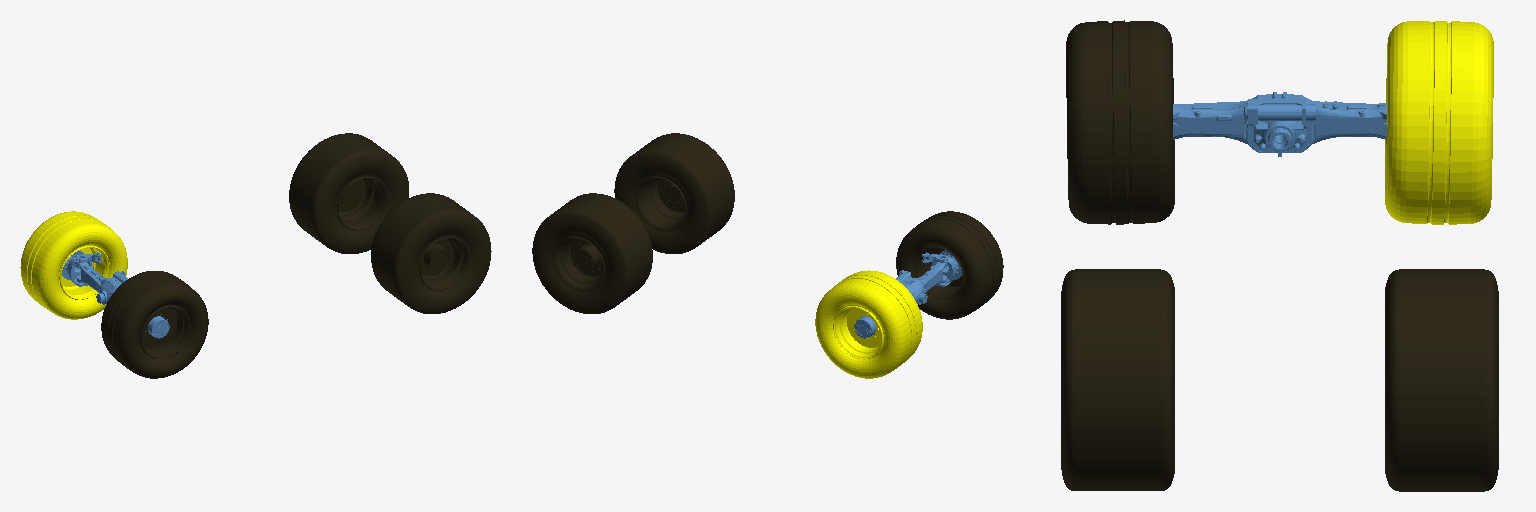
robot.urdf — m220a_sim_d:
<?xml version="1.0" encoding="utf-8"?>
<!-- This URDF was automatically created by SolidWorks to URDF Exporter! Originally created by [author] ([email redacted]) 
     Commit Version: 1.5.1-0-g916b5db  Build Version: 1.5.7152.31018
     For more information, please see http://wiki.ros.org/sw_urdf_exporter -->
<robot
  name="m220a_sim_d">
  <link
    name="base_link">
    <inertial>
            <origin
        xyz="0.664248340762401 -9.71108443197371E-05 0.58883710544899"
        rpy="0 0 0" />
              <mass
        value="591.811388669448" />
              <inertia
        ixx="17.4115549145189"
        ixy="-0.0858456092196217"
        ixz="1.88877993504133"
        iyy="104.916171577223"
        iyz="0.0131810528442383"
        izz="109.491249979225" />
    </inertial>
    <visual>
      <origin
        xyz="0 0 0"
        rpy="0 0 0" />
      <geometry>
        <mesh
          filename="package://m220a_sim_d/meshes/base_link.STL" />
      </geometry>
      <material
        name="">
        <color
          rgba="0.0901960784313725 0.380392156862745 0.670588235294118 1" />
      </material>
    </visual>
    <collision>
      <origin
        xyz="0 0 0"
        rpy="0 0 0" />
      <geometry>
        <mesh
          filename="package://m220a_sim_d/meshes/base_link.STL" />
      </geometry>
    </collision>
  </link>
  <link
    name="Raxle_link">
    <inertial>
      <origin
        xyz="0.115027834396295 -0.00368791120621493 0.0275444861694117"
        rpy="0 0 0" />
      <mass
        value="6.96093670977785" />
      <inertia
        ixx="0.0795168605718286"
        ixy="-4.79170506361277E-06"
        ixz="-0.000497046464018259"
        iyy="0.0463614312865301"
        iyz="0.000250763639659736"
        izz="0.0629479932814762" />
    </inertial>
    <visual>
      <origin
        xyz="0 0 0"
        rpy="0 0 0" />
      <geometry>
        <mesh
          filename="package://m220a_sim_d/meshes/Raxle_link.STL" />
      </geometry>
      <material
        name="">
        <color
          rgba="0.4 0.6 0.8 1" />
      </material>
    </visual>
    <collision>
      <origin
        xyz="0 0 0"
        rpy="0 0 0" />
      <geometry>
        <mesh
          filename="package://m220a_sim_d/meshes/Raxle_link.STL" />
      </geometry>
    </collision>
  </link>
  <joint
    name="Raxle_rev"
    type="revolute">
    <origin
      xyz="-1.5342700116 0 0.54132480000003"
      rpy="0 0 0" />
    <parent
      link="base_link" />
    <child
      link="Raxle_link" />
    <axis
      xyz="1 0 0" />
    <limit
      lower="0.17"
      upper="-0.17"
      effort="0"
      velocity="0" />
  </joint>
  <link
    name="RRwheelhub_Link">
    <inertial>
      <origin
        xyz="0.0101197292226871 -0.115282963032153 0.00613134555331774"
        rpy="0 0 0" />
      <mass
        value="7.39057069090286" />
      <inertia
        ixx="0.0654815354112381"
        ixy="-0.00479710525420318"
        ixz="-0.00667782117628212"
        iyy="0.0864591374173895"
        iyz="-0.00220576942946768"
        izz="0.0601126248946336" />
    </inertial>
    <visual>
      <origin
        xyz="0 0 0"
        rpy="0 0 0" />
      <geometry>
        <mesh
          filename="package://m220a_sim_d/meshes/RRwheelhub_Link.STL" />
      </geometry>
      <material
        name="">
        <color
          rgba="0.4 0.6 0.8 1" />
      </material>
    </visual>
    <collision>
      <origin
        xyz="0 0 0"
        rpy="0 0 0" />
      <geometry>
        <mesh
          filename="package://m220a_sim_d/meshes/RRwheelhub_Link.STL" />
      </geometry>
    </collision>
  </link>
  <joint
    name="RRwheelhub_rev"
    type="revolute">
    <origin
      xyz="0 -0.685 0"
      rpy="0 0 0" />
    <parent
      link="Raxle_link" />
    <child
      link="RRwheelhub_Link" />
    <axis
      xyz="0 0 -1" />
    <limit
      lower="0.3"
      upper="-0.3"
      effort="0"
      velocity="0" />
  </joint>
  <link
    name="RRwheel_Link">
    <inertial>
      <origin
        xyz="0 0.0332360777534125 -2.77555756156289E-17"
        rpy="0 0 0" />
      <mass
        value="112.328785456304" />
      <inertia
        ixx="10.7002611274863"
        ixy="-3.80661704354953E-14"
        ixz="-1.6994036063168E-15"
        iyy="16.329414676448"
        iyz="-3.78863607153336E-15"
        izz="10.7002611274863" />
    </inertial>
    <visual>
      <origin
        xyz="0 0 0"
        rpy="0 0 0" />
      <geometry>
        <mesh
          filename="package://m220a_sim_d/meshes/RRwheel_Link.STL" />
      </geometry>
      <material
        name="">
        <color
          rgba="0.196078431372549 0.176470588235294 0.117647058823529 1" />
      </material>
    </visual>
    <collision>
      <origin
        xyz="0 0 0"
        rpy="0 0 0" />
      <geometry>
        <mesh
          filename="package://m220a_sim_d/meshes/RRwheel_Link.STL" />
      </geometry>
    </collision>
  </link>
  <joint
    name="RRwheel_cont"
    type="continuous">
    <origin
      xyz="0 -0.192698065728486 -0.00219855720814253"
      rpy="0.0174532925199481 0 0" />
    <parent
      link="RRwheelhub_Link" />
    <child
      link="RRwheel_Link" />
    <axis
      xyz="0 1 0" />
  </joint>
  <link
    name="LRwheelhub_Link">
    <inertial>
      <origin
        xyz="0.0101831933496832 0.115168626863759 0.00613747696767633"
        rpy="0 0 0" />
      <mass
        value="7.38522680074551" />
      <inertia
        ixx="0.0654835272657857"
        ixy="0.00475907140727347"
        ixz="-0.00677209460070224"
        iyy="0.086461021829941"
        iyz="0.00220465547996178"
        izz="0.0601131347962688" />
    </inertial>
    <visual>
      <origin
        xyz="0 0 0"
        rpy="0 0 0" />
      <geometry>
        <mesh
          filename="package://m220a_sim_d/meshes/LRwheelhub_Link.STL" />
      </geometry>
      <material
        name="">
        <color
          rgba="0.4 0.6 0.8 1" />
      </material>
    </visual>
    <collision>
      <origin
        xyz="0 0 0"
        rpy="0 0 0" />
      <geometry>
        <mesh
          filename="package://m220a_sim_d/meshes/LRwheelhub_Link.STL" />
      </geometry>
    </collision>
  </link>
  <joint
    name="LRwheelhub_rev"
    type="revolute">
    <origin
      xyz="0 0.685 0"
      rpy="0 0 0" />
    <parent
      link="Raxle_link" />
    <child
      link="LRwheelhub_Link" />
    <axis
      xyz="0 0 -1" />
    <limit
      lower="0.3"
      upper="-0.3"
      effort="0"
      velocity="0" />
  </joint>
  <link
    name="LRwheel_Link">
    <inertial>
      <origin
        xyz="-2.22044604925031E-16 -0.0205360777533298 -1.38777878078145E-17"
        rpy="0 0 0" />
      <mass
        value="112.328785456304" />
      <inertia
        ixx="10.700261127489"
        ixy="2.84544554290303E-14"
        ixz="2.81008058985987E-15"
        iyy="16.3294146764527"
        iyz="5.68989300120379E-16"
        izz="10.700261127489" />
    </inertial>
    <visual>
      <origin
        xyz="0 0 0"
        rpy="0 0 0" />
      <geometry>
        <mesh
          filename="package://m220a_sim_d/meshes/LRwheel_Link.STL" />
      </geometry>
      <material
        name="">
        <color
          rgba="1 1 0.0392156862745098 1" />
      </material>
    </visual>
    <collision>
      <origin
        xyz="0 0 0"
        rpy="0 0 0" />
      <geometry>
        <mesh
          filename="package://m220a_sim_d/meshes/LRwheel_Link.STL" />
      </geometry>
    </collision>
  </link>
  <joint
    name="LRwheel_cont"
    type="continuous">
    <origin
      xyz="0 0.18 -0.00197691164638221"
      rpy="-0.0174532925199407 0 0" />
    <parent
      link="LRwheelhub_Link" />
    <child
      link="LRwheel_Link" />
    <axis
      xyz="0 -1 0" />
  </joint>
  <link
    name="RFwheel_Link">
    <inertial>
      <origin
        xyz="-2.85929953931507E-05 0.876346708589147 -1.30473127682995E-05"
        rpy="0 0 0" />
      <mass
        value="286.910658695307" />
      <inertia
        ixx="27.9109076636024"
        ixy="-0.000705581579910743"
        ixz="0.000347589706302624"
        iyy="42.9626092450738"
        iyz="-0.000206989823208419"
        izz="27.9112259000473" />
    </inertial>
    <visual>
      <origin
        xyz="0 0 0"
        rpy="0 0 0" />
      <geometry>
        <mesh
          filename="package://m220a_sim_d/meshes/RFwheel_Link.STL" />
      </geometry>
      <material
        name="">
        <color
          rgba="0.196078431372549 0.176470588235294 0.117647058823529 1" />
      </material>
    </visual>
    <collision>
      <origin
        xyz="0 0 0"
        rpy="0 0 0" />
      <geometry>
        <mesh
          filename="package://m220a_sim_d/meshes/RFwheel_Link.STL" />
      </geometry>
    </collision>
  </link>
  <joint
    name="RFwheel_cont"
    type="continuous">
    <origin
      xyz="1.778 0 0.584999999999999"
      rpy="0 0 3.14159265358979" />
    <parent
      link="base_link" />
    <child
      link="RFwheel_Link" />
    <axis
      xyz="0 1 0" />
  </joint>
  <link
    name="LFwheel_Link">
    <inertial>
      <origin
        xyz="2.85929955343711E-05 -0.876346708589249 -1.30473126640218E-05"
        rpy="0 0 0" />
      <mass
        value="286.910658694691" />
      <inertia
        ixx="27.9109076635952"
        ixy="-0.000705581583915759"
        ixz="-0.000347589704174152"
        iyy="42.9626092450694"
        iyz="0.00020698982023692"
        izz="27.9112259000389" />
    </inertial>
    <visual>
      <origin
        xyz="0 0 0"
        rpy="0 0 0" />
      <geometry>
        <mesh
          filename="package://m220a_sim_d/meshes/LFwheel_Link.STL" />
      </geometry>
      <material
        name="">
        <color
          rgba="0.196078431372549 0.176470588235294 0.117647058823529 1" />
      </material>
    </visual>
    <collision>
      <origin
        xyz="0 0 0"
        rpy="0 0 0" />
      <geometry>
        <mesh
          filename="package://m220a_sim_d/meshes/LFwheel_Link.STL" />
      </geometry>
    </collision>
  </link>
  <joint
    name="LFwheel_cont"
    type="continuous">
    <origin
      xyz="1.778 0 0.584999999999999"
      rpy="0 0 3.14159265358979" />
    <parent
      link="base_link" />
    <child
      link="LFwheel_Link" />
    <axis
      xyz="0 -1 0" />
  </joint>

    <link name="dummy_link" >      
    <origin
        xyz="0 0 0"
        rpy="0 0 0" /> 
    </link>

  <joint name="chassis_to_chassis_dummy" type="fixed">
     <parent link="dummy_link"/>
     <child link="base_link"/>
  </joint>



    <gazebo>
    <plugin name="gazebo_ros_control" filename="libgazebo_ros_control.so">
      <robotNamespace>/</robotNamespace>
      <robotSimType>gazebo_ros_control/DefaultRobotHWSim</robotSimType>
    </plugin>
  </gazebo>
  <gazebo>
	<transmission
		type="transmission_interface/SimpleTransmission"
		name="ackermann_steering"
  >
		<actuator name="ackermann_bar_link" />
		<joint name="LRwheel_Link" />
		<mechanicalReduction>1.0</mechanicalReduction>
		<motorTorqueConstant>1</motorTorqueConstant>
	</transmission>
  </gazebo>

    <gazebo>
	<transmission
		type="transmission_interface/SimpleTransmission"
		name="ackermann_steering"
  >
		<actuator name="ackermann_bar_link_R" />
		<joint name="RRwheel_Link" />
		<mechanicalReduction>1.0</mechanicalReduction>
		<motorTorqueConstant>1</motorTorqueConstant>
	</transmission>
  </gazebo>

  <gazebo reference="base_link">
    <material>Gazebo/Blue</material>
  </gazebo>

<!-- Rear Axle-->
  <gazebo reference="Raxle_link">
    <material>Gazebo/Blue</material>
  </gazebo>

<!-- LR Wheel -->
   <gazebo reference="LRwheel_Link">
    <material>Gazebo/Black</material>
  </gazebo>

<!-- LR Wheel Hub-->
   <gazebo reference="LRwheelhub_Link">
    <material>Gazebo/Blue</material>
  </gazebo>

<!-- RR Wheel -->
   <gazebo reference="RRwheel_Link">
    <material>Gazebo/Black</material>
  </gazebo>

<!-- RR Wheel Hub-->
   <gazebo reference="RRwheelhub_Link">
    <material>Gazebo/Blue</material>
  </gazebo>

  
<!-- RF Wheel -->
   <gazebo reference="RFwheel_Link">
    <material>Gazebo/Black</material>
  </gazebo>



<!-- LF Wheel -->
   <gazebo reference="LFwheel_Link">
    <material>Gazebo/Black</material>
  </gazebo>

</robot>

--- Facts derived from the render (not from the file) ---
Views: 3 orthographic renders of the robot side by side, from view 1: azimuth 30°, elevation 25°; view 2: azimuth 150°, elevation 25°; view 3: azimuth 270°, elevation 25°.
Robot: m220a_sim_d — 9 links, 8 joints (3 revolute, 4 continuous, 1 fixed); root link dummy_link; default pose: every joint at zero.
Links seen in each view (by area): view 1: RFwheel_Link, LFwheel_Link, RRwheel_Link, LRwheel_Link, Raxle_link, LRwheelhub_Link; view 2: LFwheel_Link, RFwheel_Link, LRwheel_Link, RRwheel_Link, Raxle_link, RRwheelhub_Link; view 3: LFwheel_Link, RFwheel_Link, LRwheel_Link, RRwheel_Link, Raxle_link.
Boxes of the visible links, x1,y1,x2,y2 form: RFwheel_Link: (371,193,491,313); LFwheel_Link: (289,133,408,253); RRwheel_Link: (101,271,208,378); LRwheel_Link: (20,211,127,319); Raxle_link: (77,262,127,304); LRwheelhub_Link: (61,250,101,286); LFwheel_Link: (532,193,652,313); RFwheel_Link: (614,133,734,253); LRwheel_Link: (815,270,922,378); RRwheel_Link: (896,211,1003,319); Raxle_link: (896,262,946,304); RRwheelhub_Link: (922,250,962,286); LFwheel_Link: (1385,269,1498,491); RFwheel_Link: (1061,269,1174,490); LRwheel_Link: (1385,21,1493,224); RRwheel_Link: (1066,20,1174,224); Raxle_link: (1173,92,1386,156).
Bounding box of the posed robot: 4.43 × 2.31 × 1.17 m (x, y, z).
Meshes: 8 distinct files referenced, 7 mesh visuals loaded (7 binary STL); not drawn: 1 (reference not matched to a file when rendering).
